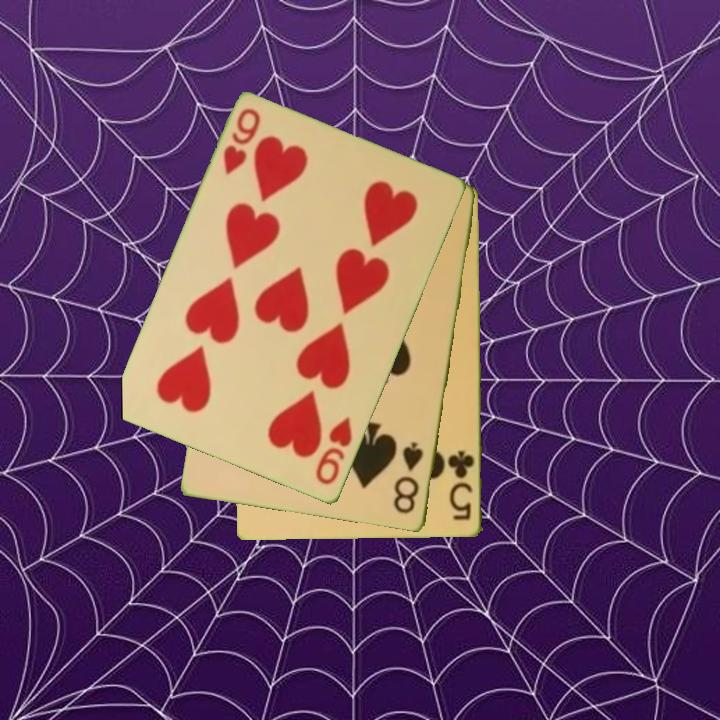5c: (445, 447, 478, 523)
8s: (390, 439, 426, 517)
9h: (219, 105, 264, 179), (312, 414, 356, 489)
